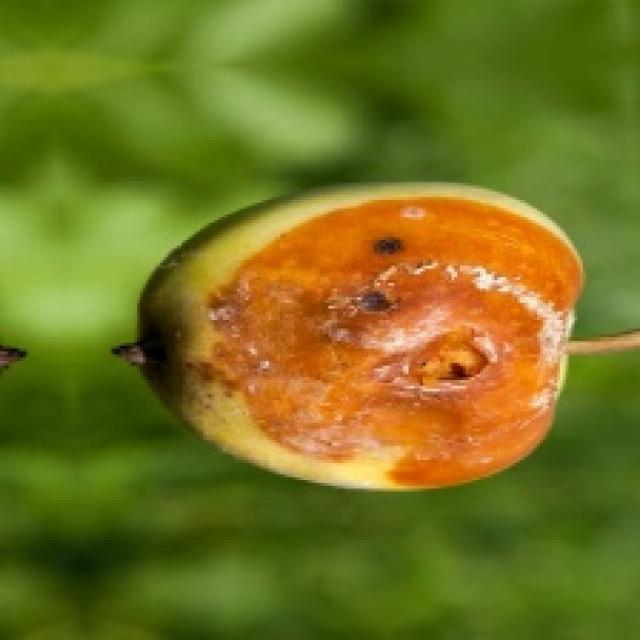rotten_apple: (144, 183, 565, 486)
